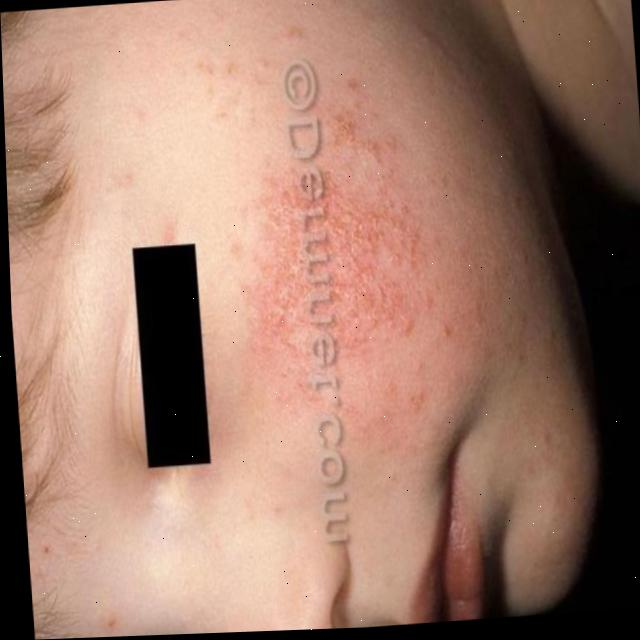Eczema: (215, 58, 468, 411)
